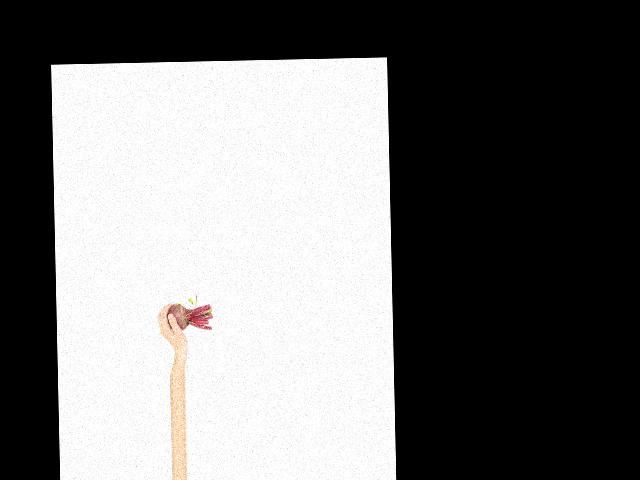beet: (166, 294, 212, 330)
